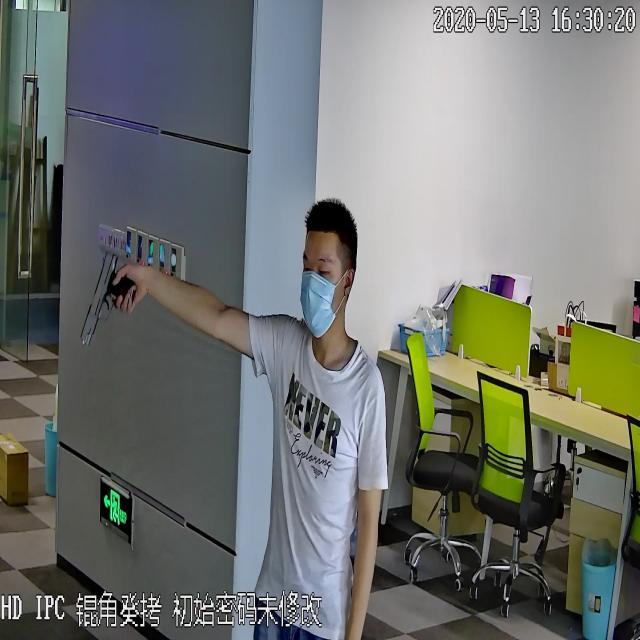gun: (75, 245, 137, 345)
